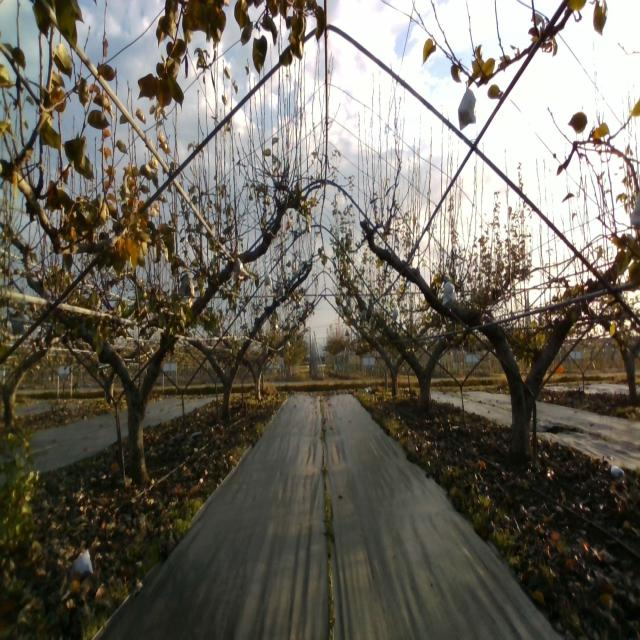pearbags: (458, 86, 476, 131), (178, 272, 196, 301), (233, 256, 249, 282), (443, 280, 457, 309)
